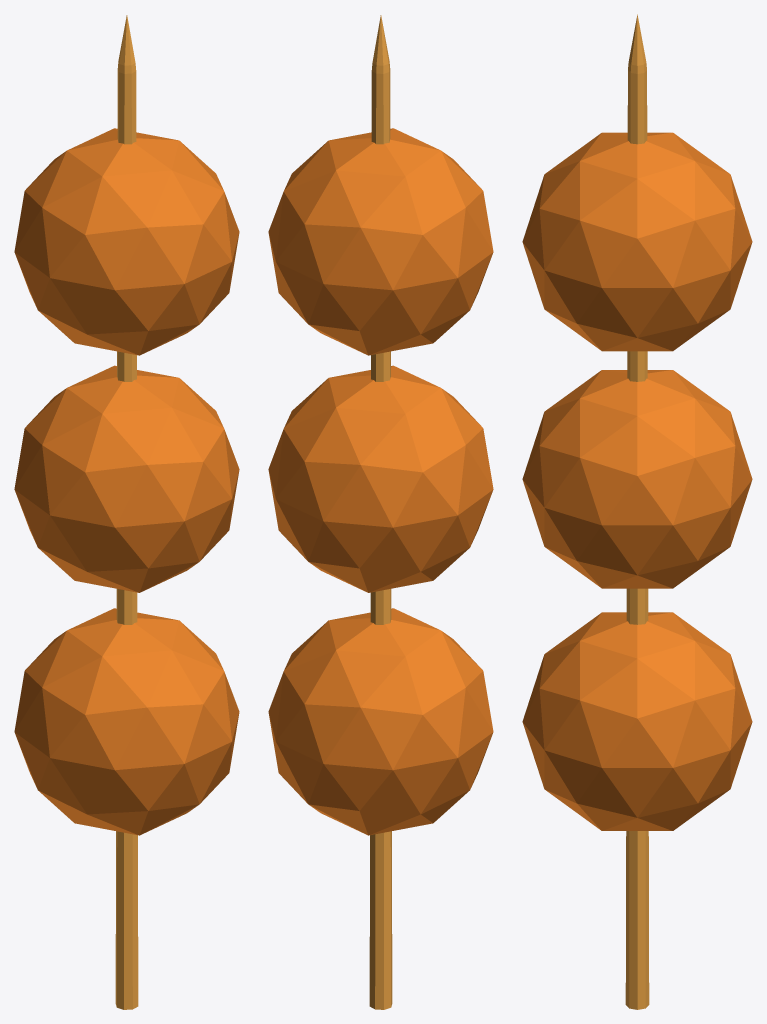
File: Chicken_Ball.fbx
3 views of the same model, side by side, from view 1: azimuth 30°, elevation 25°; view 2: azimuth 150°, elevation 25°; view 3: azimuth 270°, elevation 25° (orthographic).
Parts seen in each view (by area): view 1: Chicken_Ball; view 2: Chicken_Ball; view 3: Chicken_Ball.
Part boxes in pixels (x1=…): Chicken_Ball: x1=14, y1=15, x2=239, y2=1009; Chicken_Ball: x1=268, y1=15, x2=493, y2=1009; Chicken_Ball: x1=522, y1=14, x2=752, y2=1009.
Bounding box in the file's own units: 3.68 × 18.38 × 3.87.
